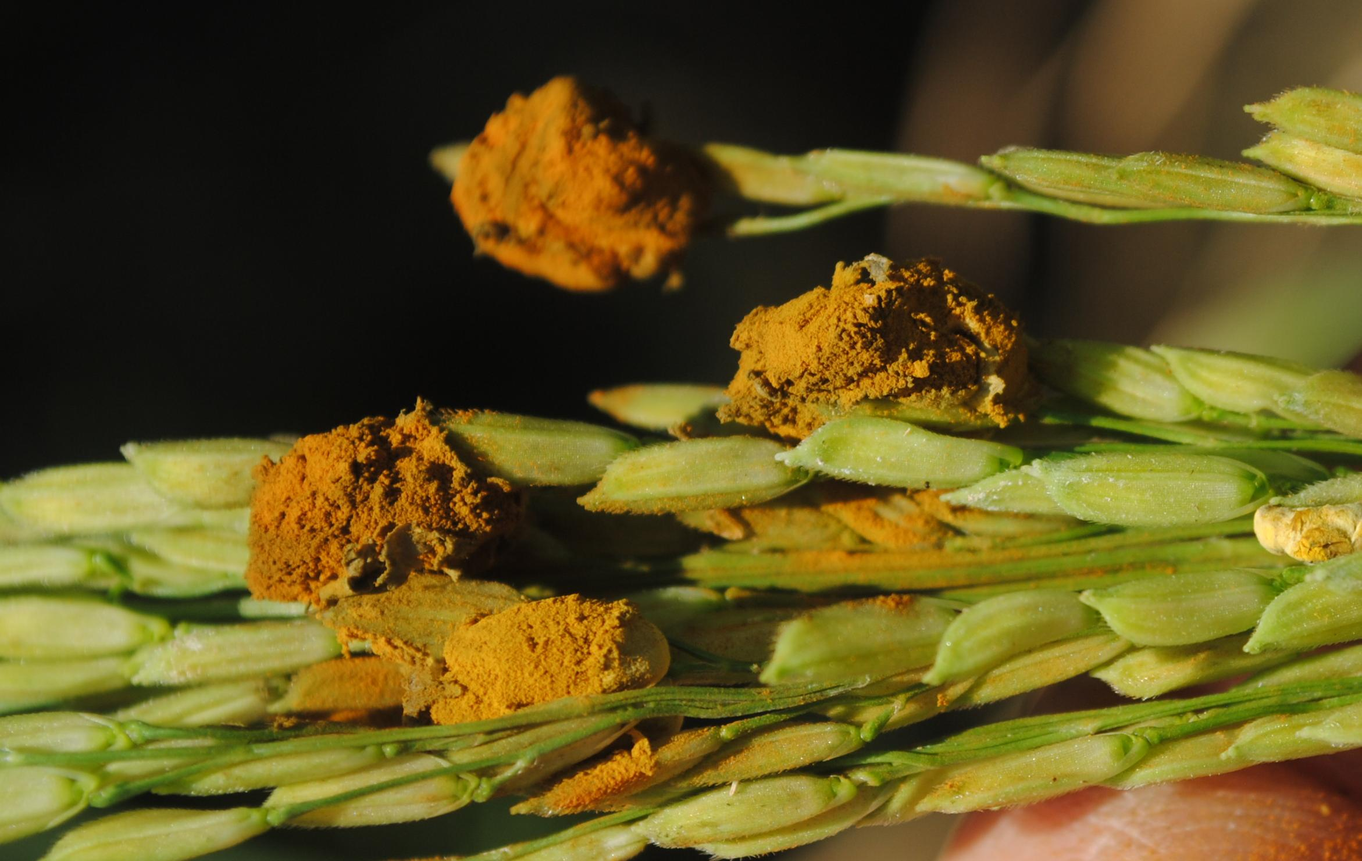False Smut: (712, 235, 1056, 456), (436, 67, 736, 296), (297, 558, 672, 727), (233, 398, 518, 613), (520, 724, 712, 823), (1253, 485, 1362, 584)
